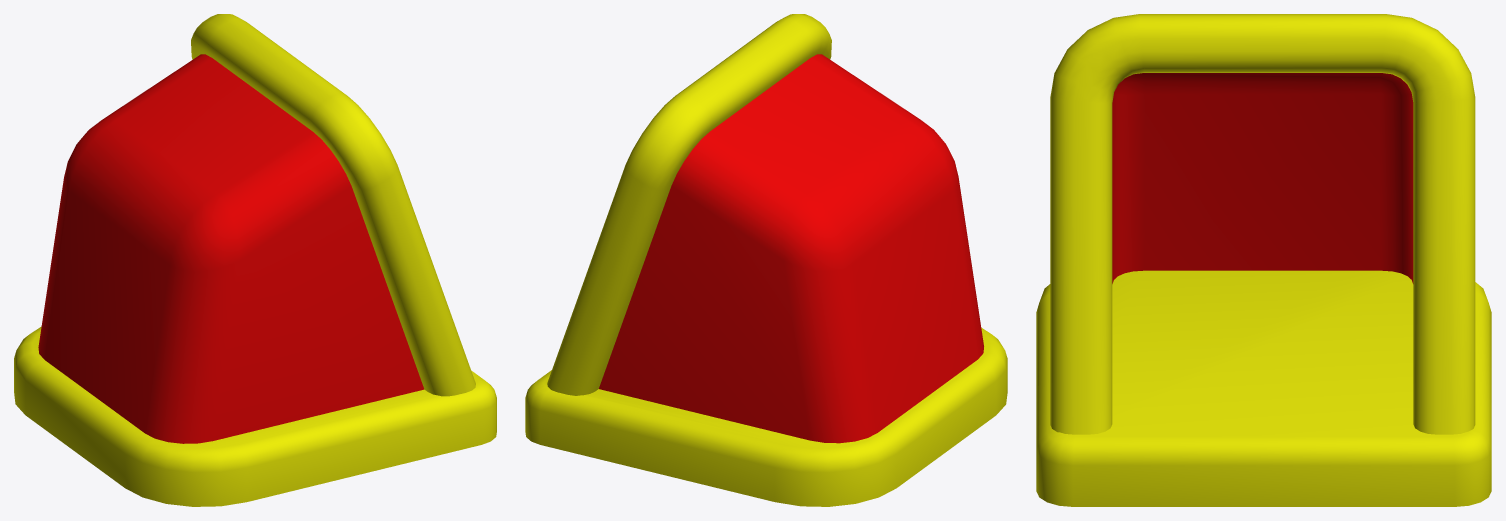
Rendered from eeeee.fbx.
3 views of the same model, side by side, from view 1: azimuth 30°, elevation 25°; view 2: azimuth 150°, elevation 25°; view 3: azimuth 270°, elevation 25° (orthographic). The views are drawn at different scales.
Visible parts, largest first — view 1: Pipe2; view 2: Pipe2; view 3: Pipe2.
Boxes of the visible parts, box(x1,y1,x2,y2) form: Pipe2: box(14, 14, 496, 506); Pipe2: box(525, 14, 1007, 506); Pipe2: box(1036, 14, 1491, 506).
Size of the model in its own units: 61.87 by 60.11 by 59.8.
